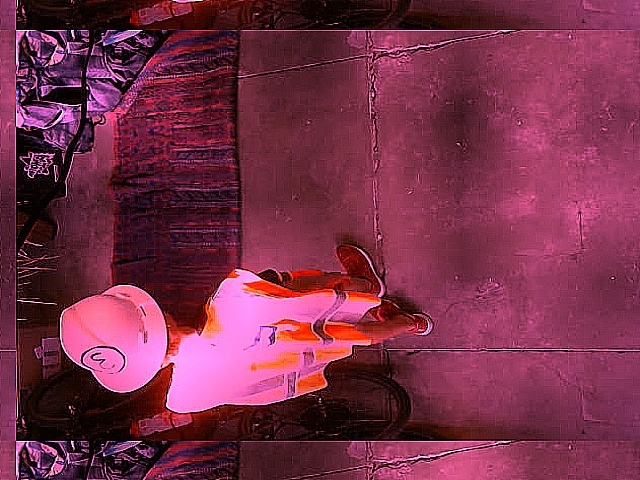three: (80, 346, 123, 374)
